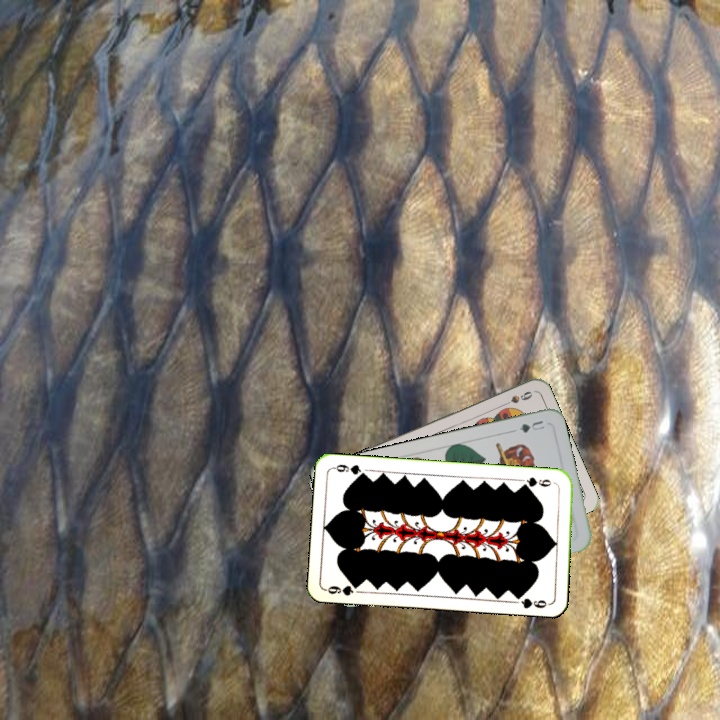G9: (322, 579, 363, 598), (518, 473, 554, 489)
GU: (515, 416, 547, 436)
S9: (496, 387, 535, 409)
